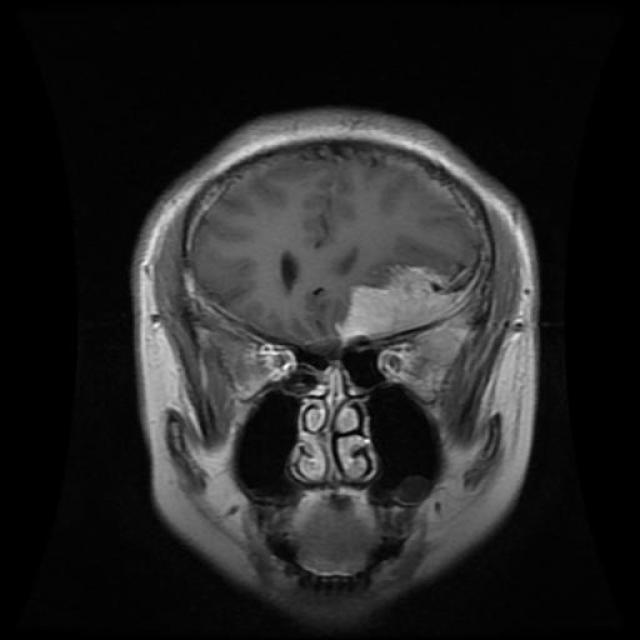meningioma: (340, 265, 464, 340)
